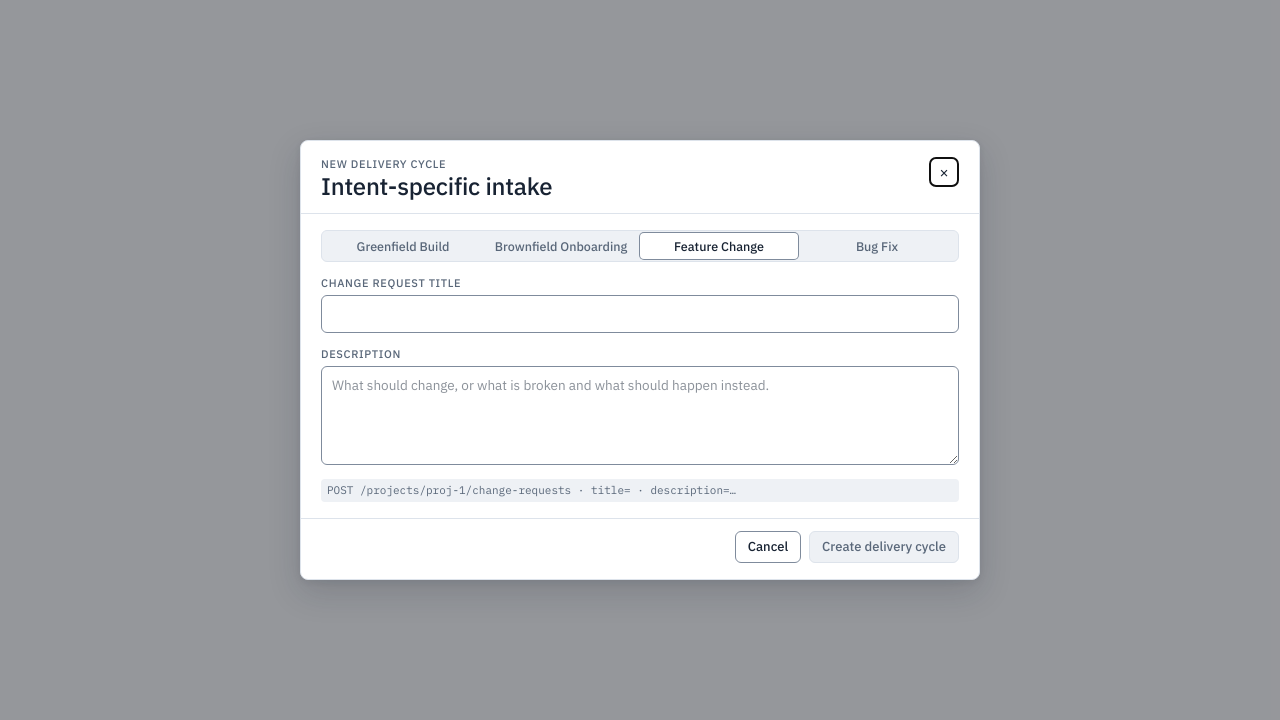
Test: IntakeFormDialog brownfield › offers only the existing repository when the project already has one
The width and height of the screenshot is (1280, 720).
Click the radio button labelled "Brownfield Onboarding". click: [561, 246]
box: top-left (482, 233), bottom-right (640, 259)
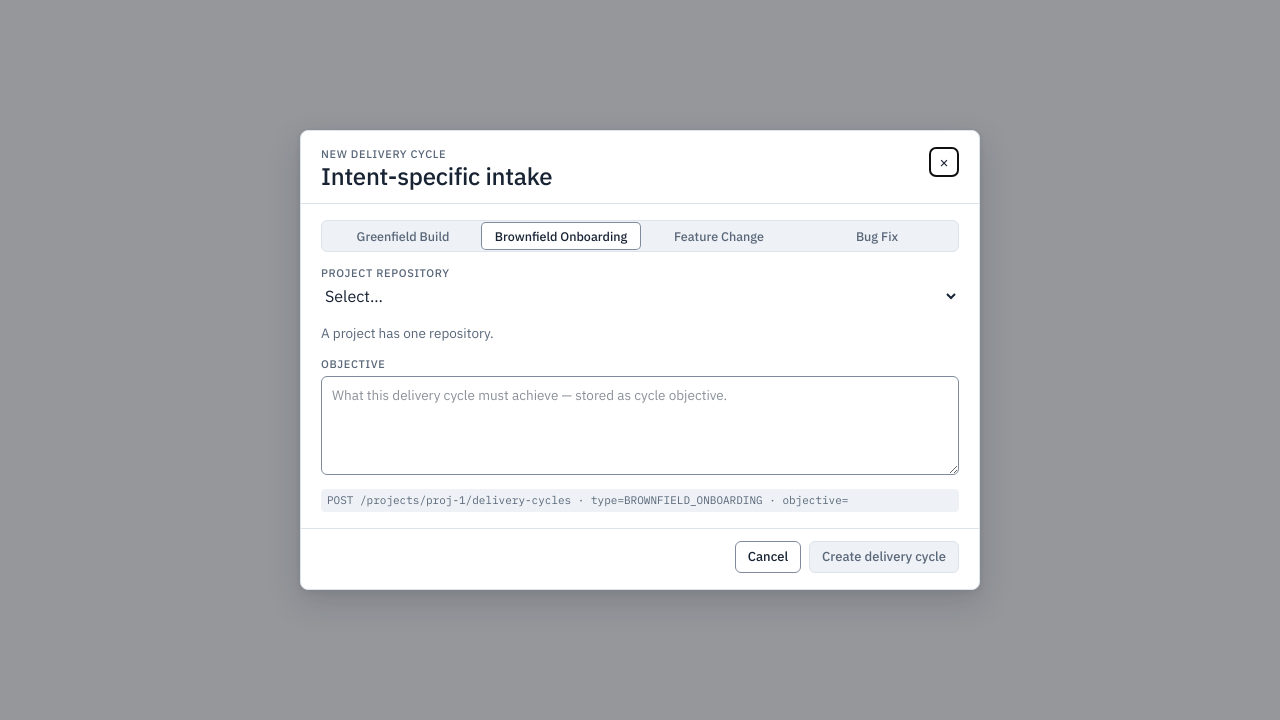
Now the text "A project has one repository." is shown, box top-left (321, 324), bottom-right (494, 342)
